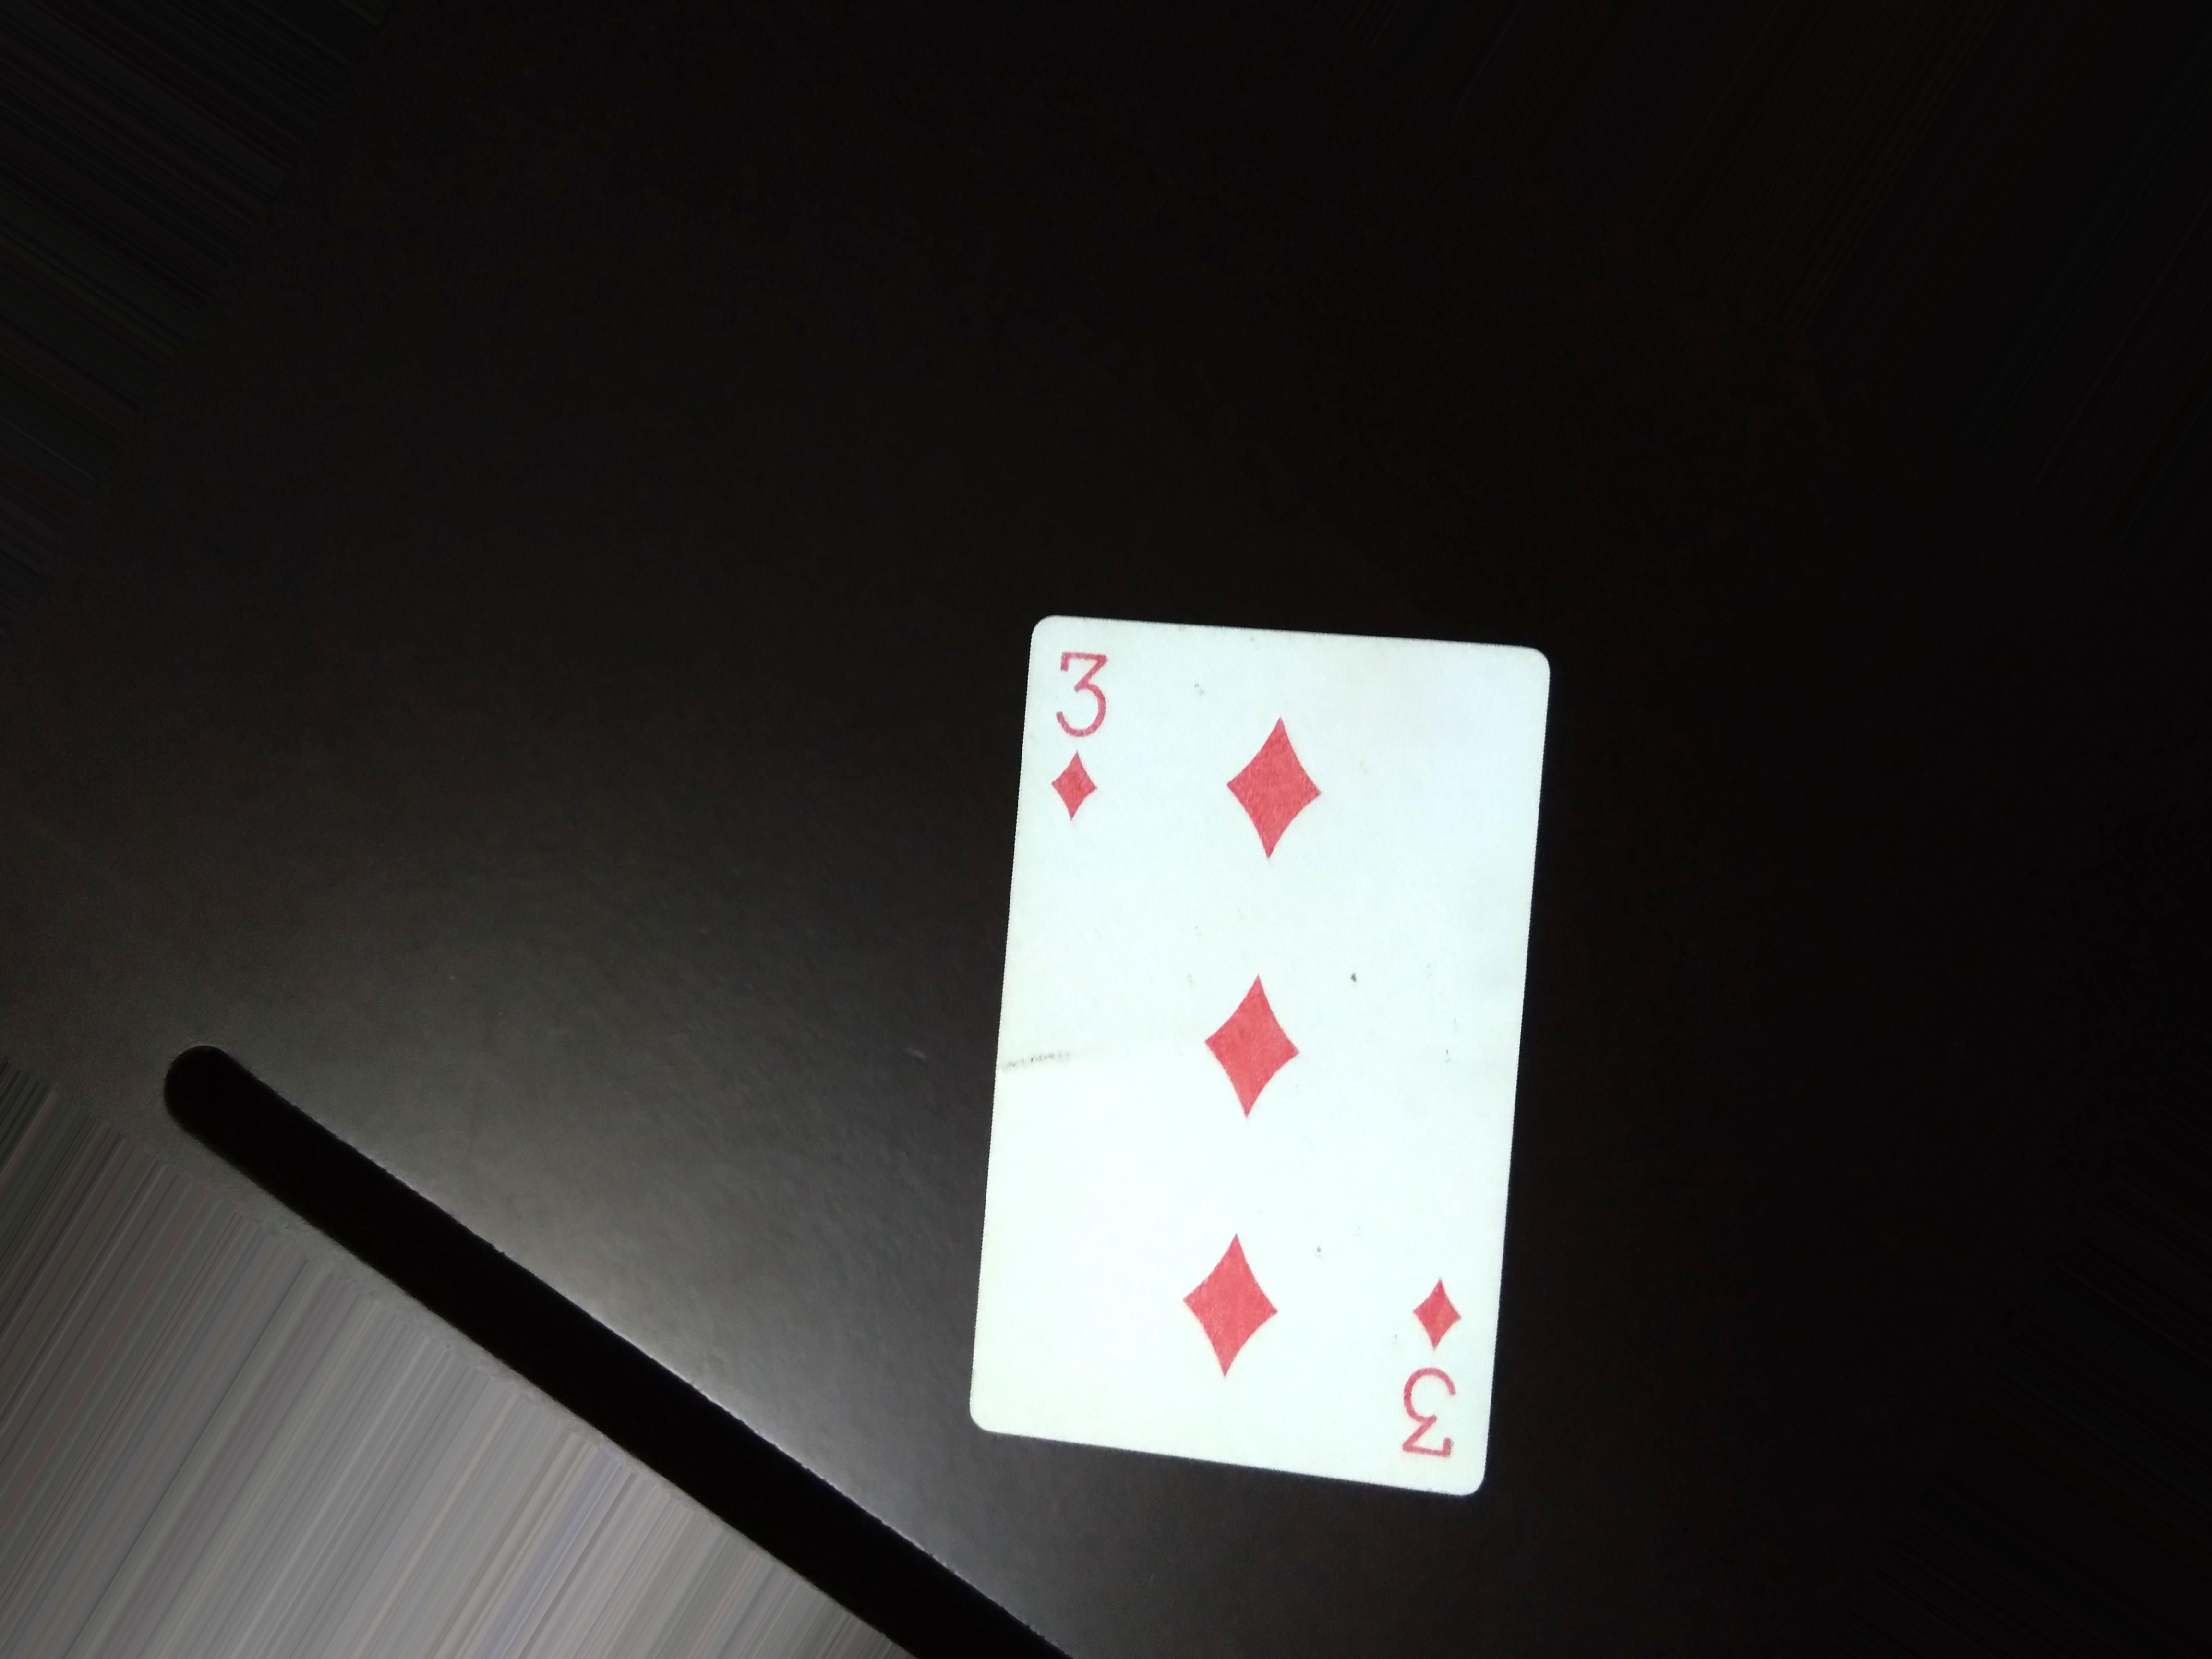3D: (1028, 640, 1130, 831)
